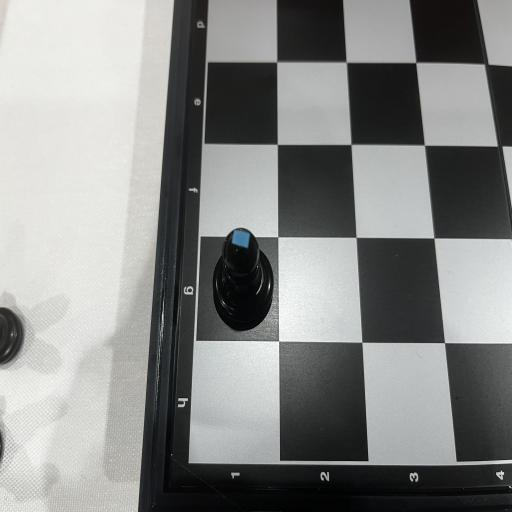Black bishop: (212, 227, 274, 331)
